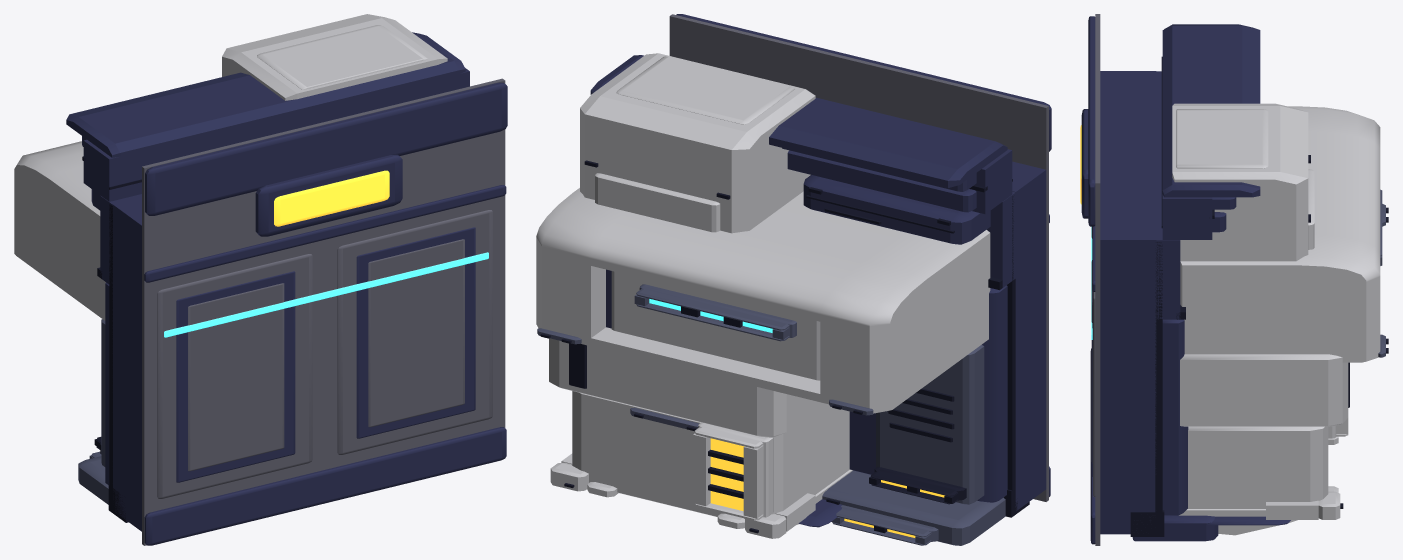
Rendered from hull.straight.b.glb.
3 renders of one model, left to right at view 1: azimuth 30°, elevation 25°; view 2: azimuth 150°, elevation 25°; view 3: azimuth 270°, elevation 25°, orthographic. The views are drawn at different scales.
Parts seen in each view (by area): view 1: GEO-hull.straight.b; view 2: GEO-hull.straight.b; view 3: GEO-hull.straight.b.
Boxes of the visible parts, x1,y1,x2,y2 form: GEO-hull.straight.b: (14, 14, 507, 545); GEO-hull.straight.b: (536, 14, 1051, 545); GEO-hull.straight.b: (1080, 14, 1388, 545).
Size of the model in its own units: 1 by 1 by 0.771.
